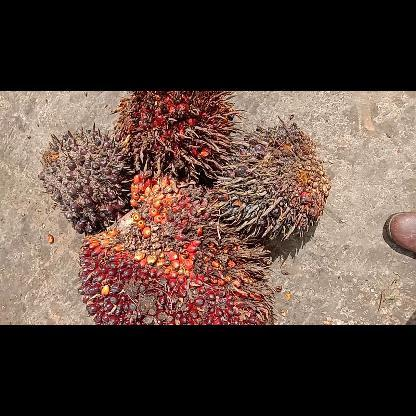Kurang masak: (38, 127, 128, 233)
TBS abnormal: (217, 121, 331, 242)
TBS masak: (78, 170, 274, 324)
Terlalu masak: (112, 92, 234, 180)
